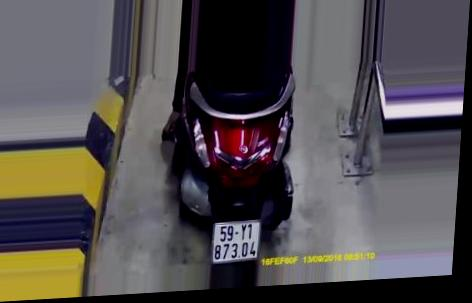License_Plate: (206, 214, 265, 265)
